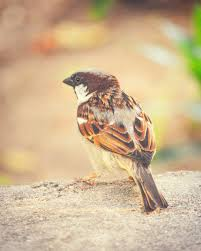hsparrow: (56, 67, 184, 218)
